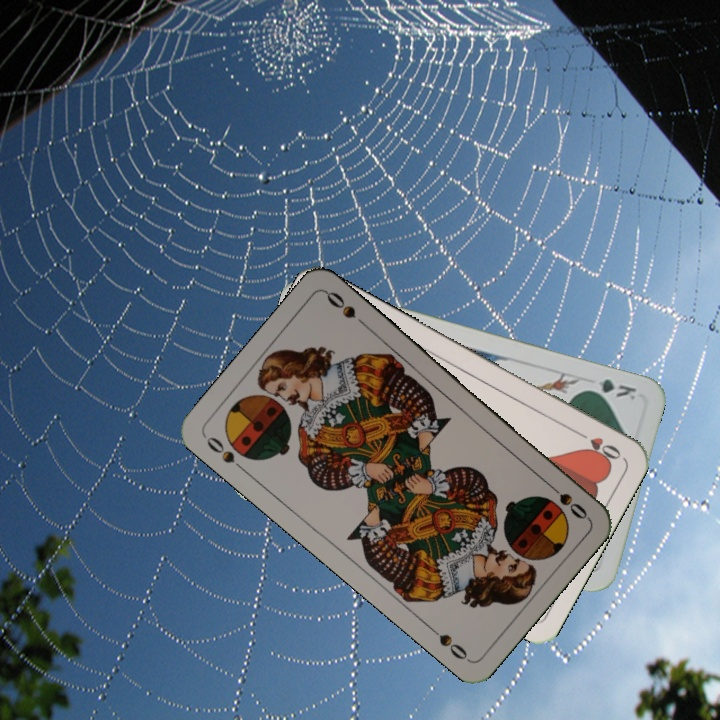GK: (581, 374, 639, 403)
HO: (571, 426, 624, 464)
SO: (542, 477, 591, 522), (200, 432, 249, 475)
